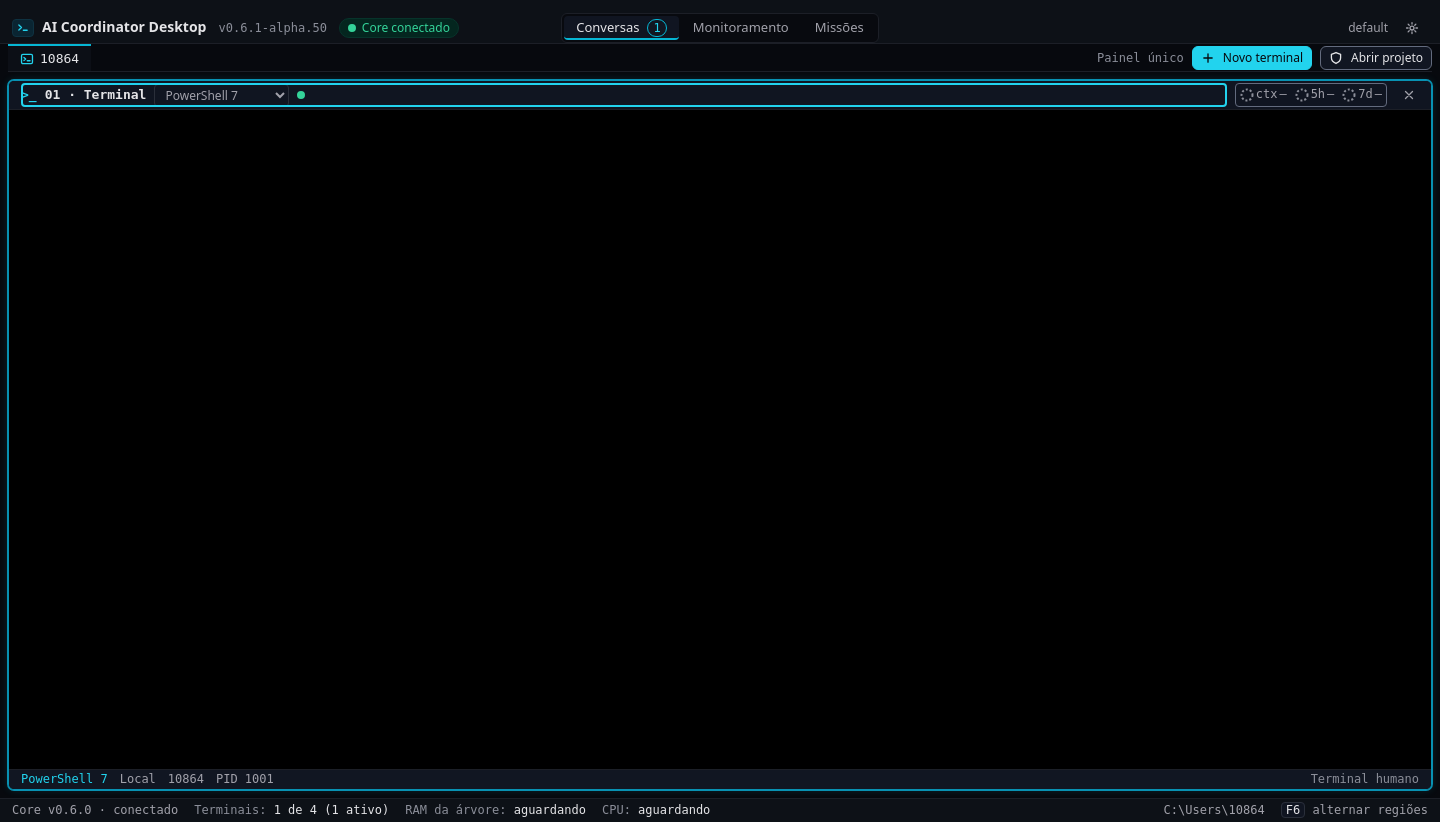
Test: App views › trocar o interpretador encerra e recria somente a sessão selecionada no mesmo diretório
Expected: the text "Core conectado" is shown, left=339, top=18, right=459, bottom=38
Click the button "Novo terminal". click: point(1252, 58)
box: left=1192, top=46, right=1312, bottom=70
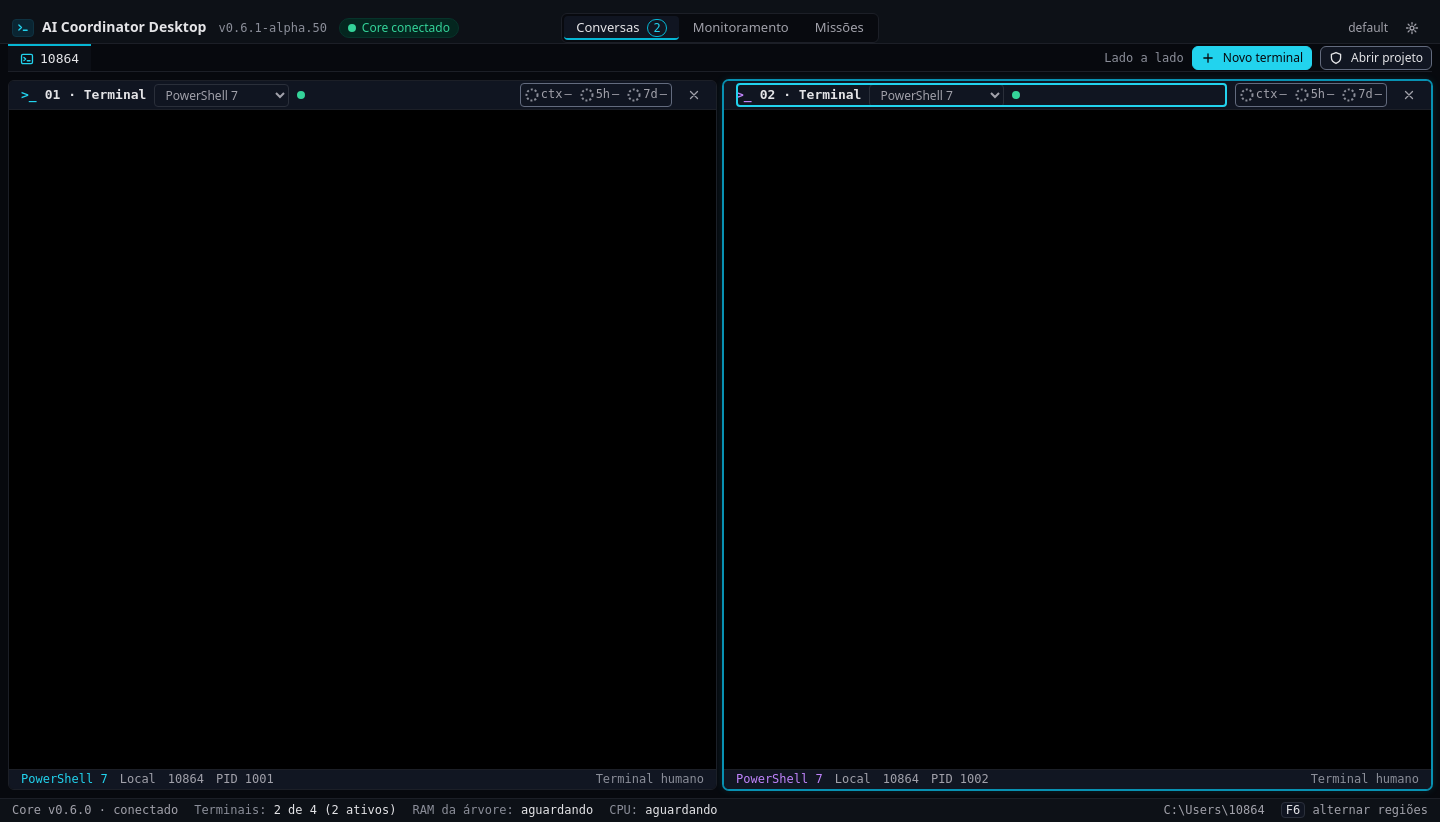
Select "CMD" in the dropdown named "Interpretador de Terminal 01". click: point(222, 95)
box: left=154, top=84, right=289, bottom=106
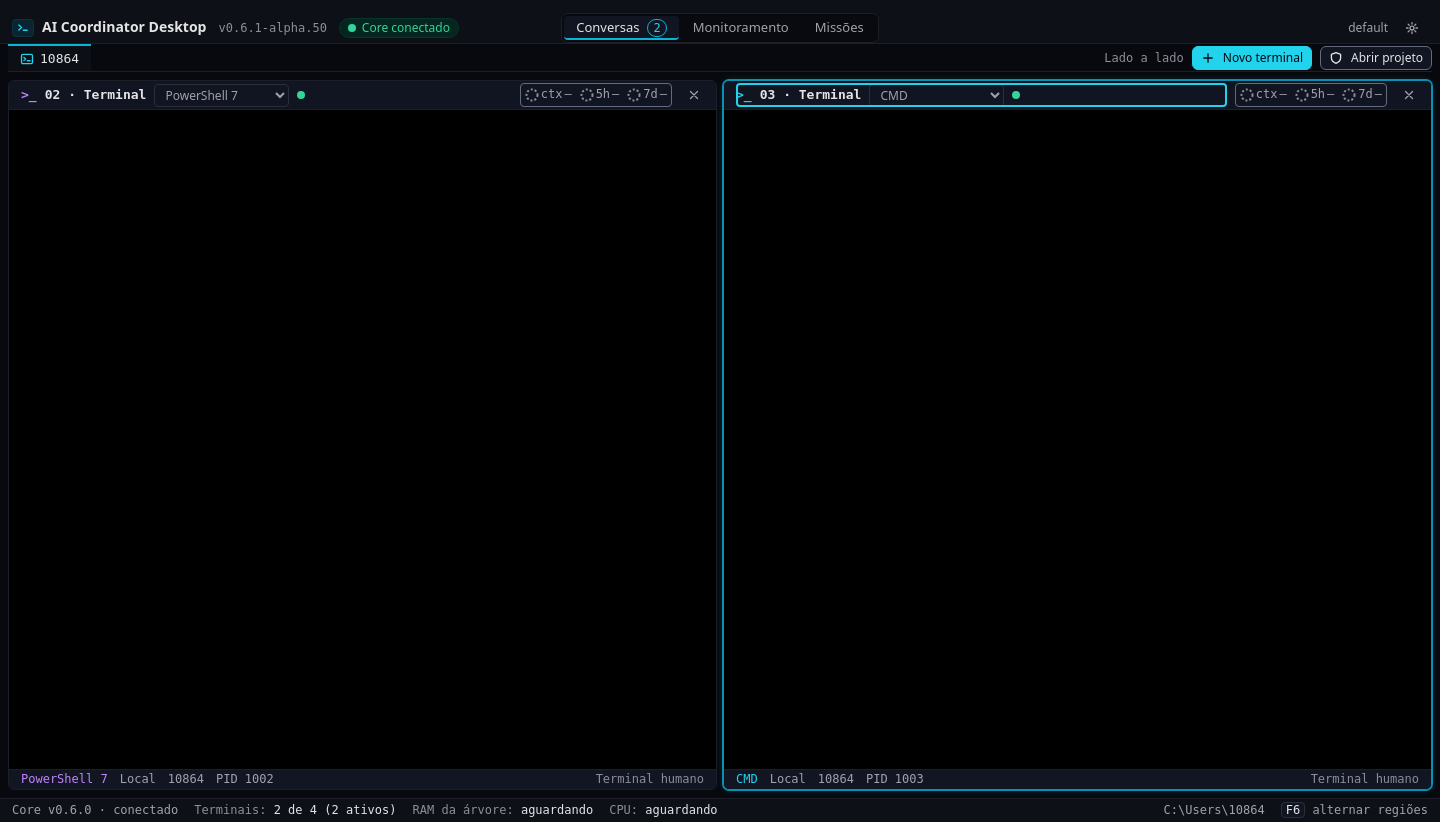
Now the element named "Terminal 02" is shown, box left=8, top=80, right=717, bottom=790
Now the element named "Terminal 03" is shown, box left=723, top=80, right=1432, bottom=790
Now the dropdown named "Interpretador de Terminal 03" shows "CMD"
Select "PowerShell 7" in the dropdown named "Interpretador de Terminal 03". click: point(937, 95)
box: left=869, top=84, right=1004, bottom=106
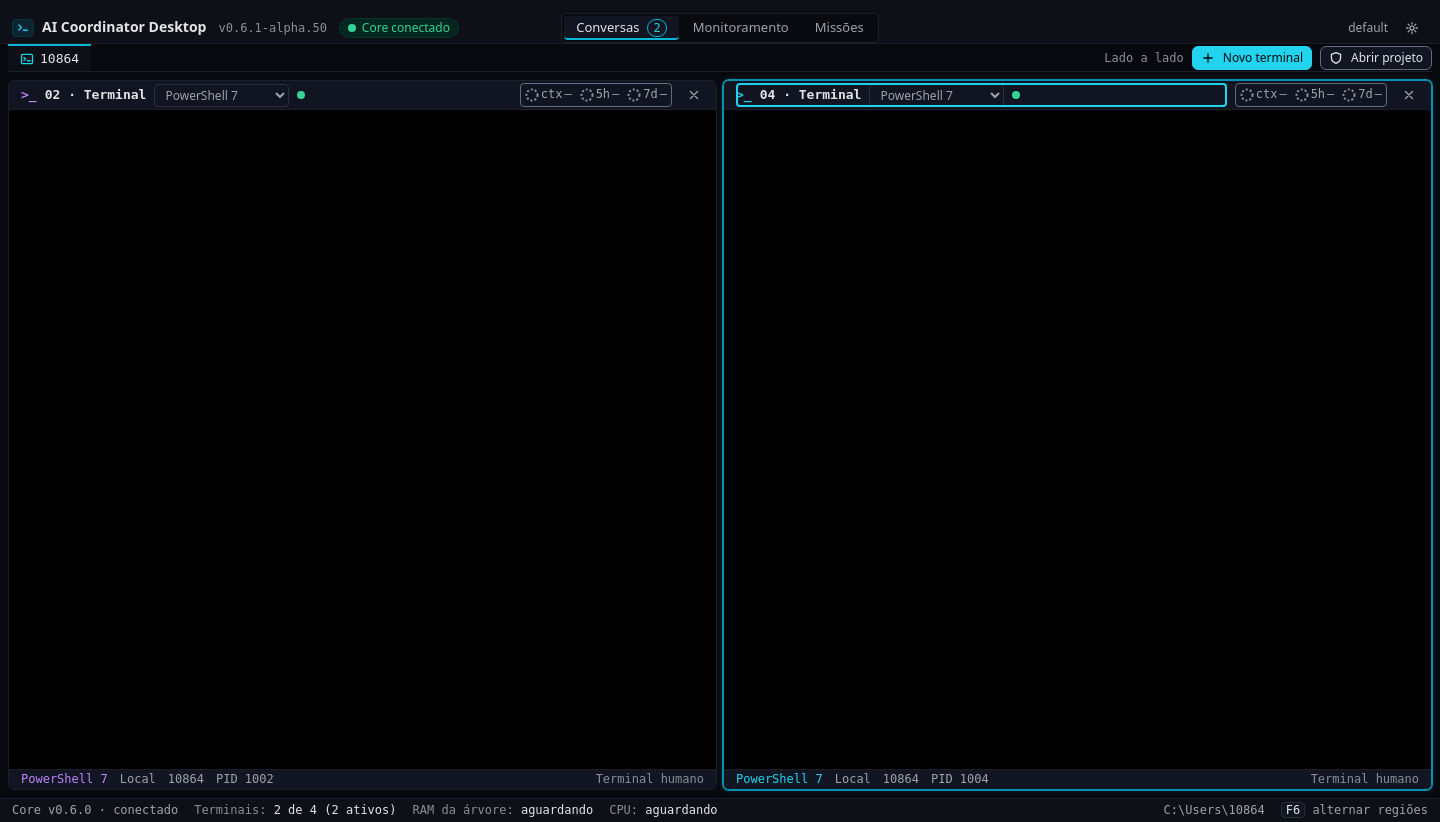
Now the dropdown named "Interpretador de Terminal 04" shows "PowerShell 7"
Select "Bash (Git Bash)" in the dropdown named "Interpretador de Terminal 04". click: point(937, 95)
box: left=869, top=84, right=1004, bottom=106
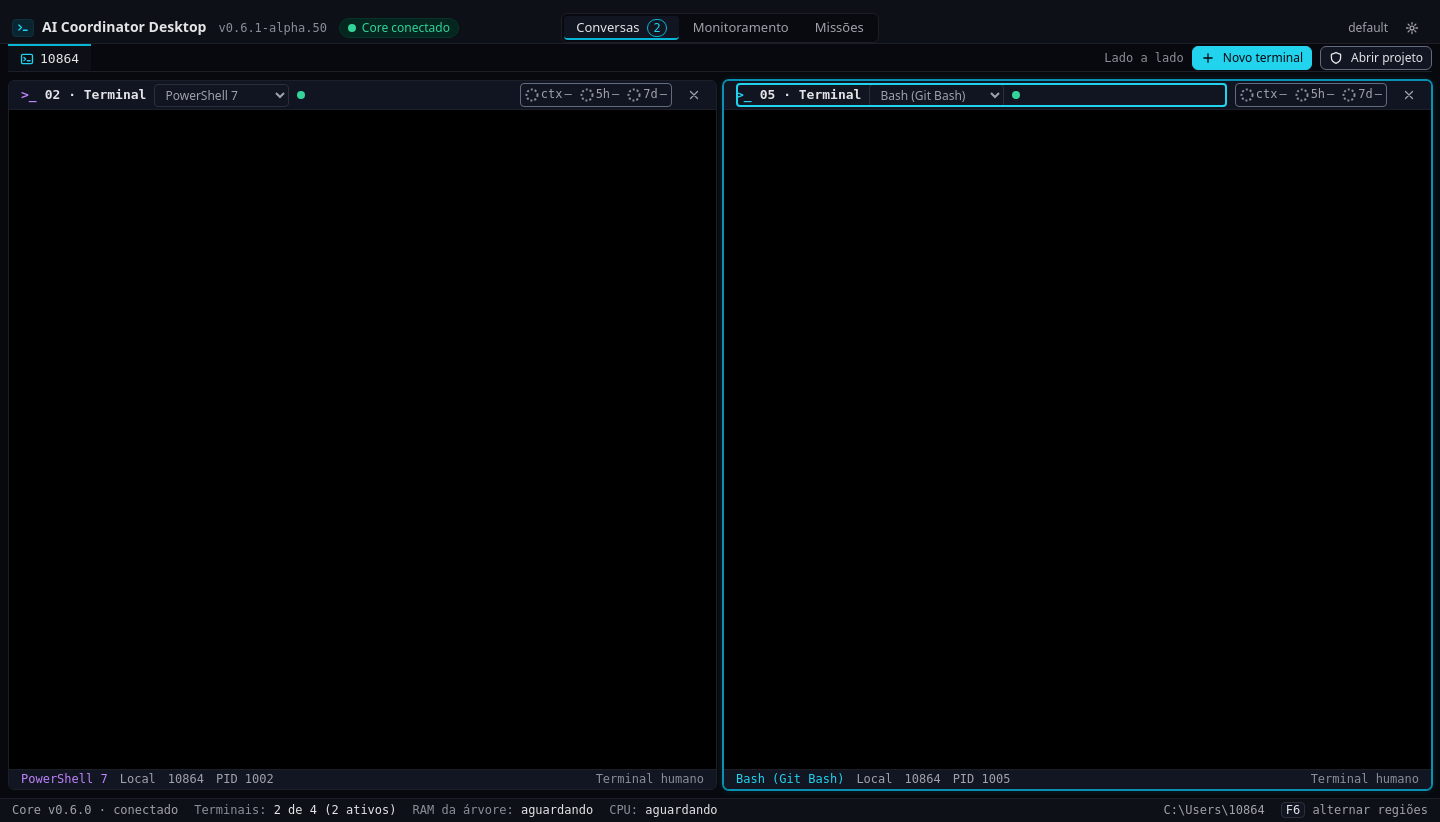
Now the element named "Terminal 02" is shown, box left=8, top=80, right=717, bottom=790
Now the element named "Terminal 05" is shown, box left=723, top=80, right=1432, bottom=790
Now the dropdown named "Interpretador de Terminal 05" shows "Bash (Git Bash)", box left=869, top=84, right=1004, bottom=106
